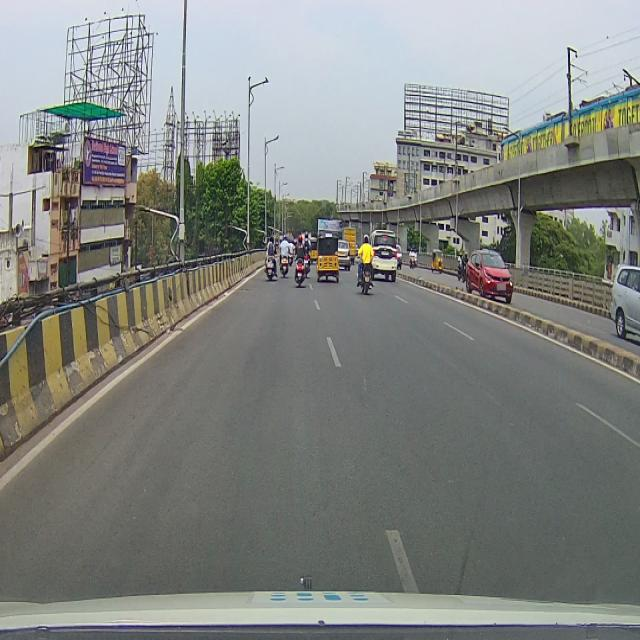auto ahead at: (317, 236, 342, 285)
motorcycle ahead at: (352, 264, 377, 298)
